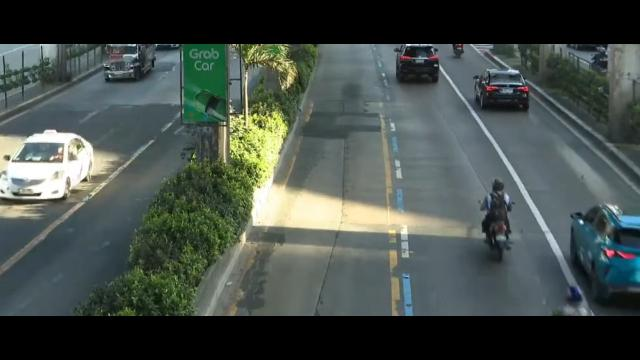car: (568, 202, 640, 301), (0, 126, 95, 200), (473, 65, 532, 112), (395, 44, 439, 84)
jeepney: (103, 44, 161, 85)
motorcycle: (479, 179, 514, 265)
